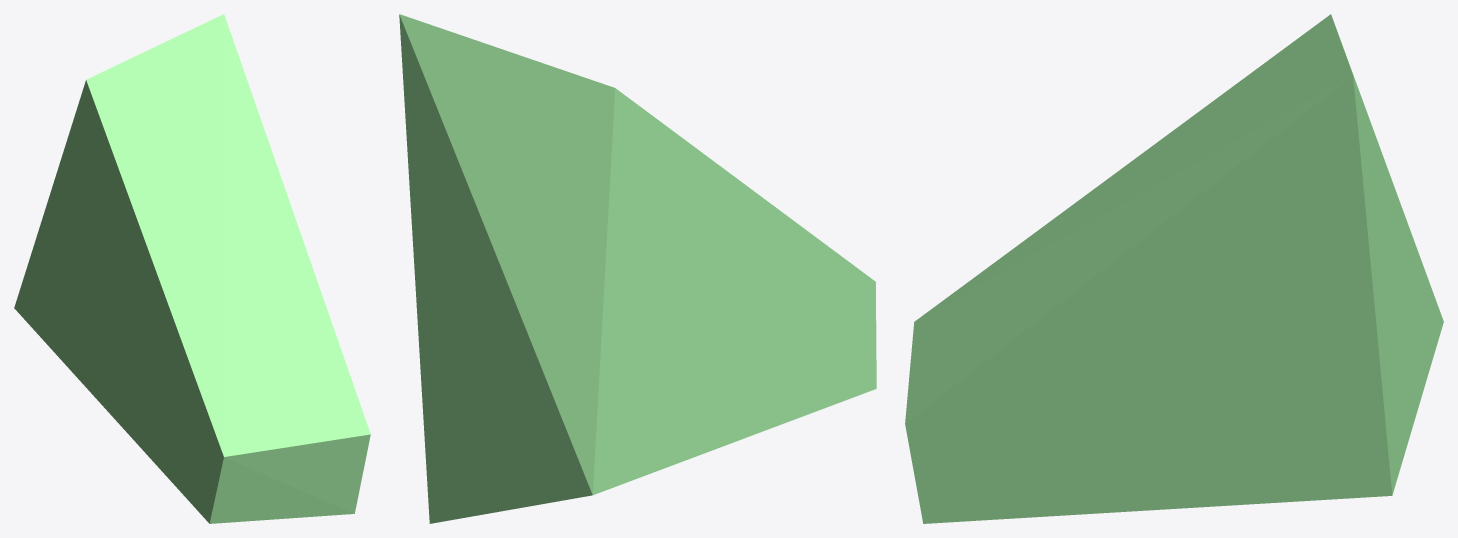
File: UMIRobot_UMIRobot_link_5_convex_coll_46.dae
3 views of the same model, side by side, from view 1: azimuth 30°, elevation 25°; view 2: azimuth 150°, elevation 25°; view 3: azimuth 270°, elevation 25° (orthographic). The views are drawn at different scales.
Parts seen in each view (by area): view 1: node; view 2: node; view 3: node.
Part boxes in pixels (x1=…): node: x1=14, y1=14, x2=370, y2=523; node: x1=399, y1=14, x2=876, y2=523; node: x1=905, y1=14, x2=1443, y2=523.
Bounding box in the file's own units: 0.00237 × 0.00466 × 0.00483.
